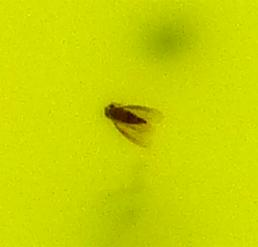Hemiptera: (100, 100, 158, 147)
